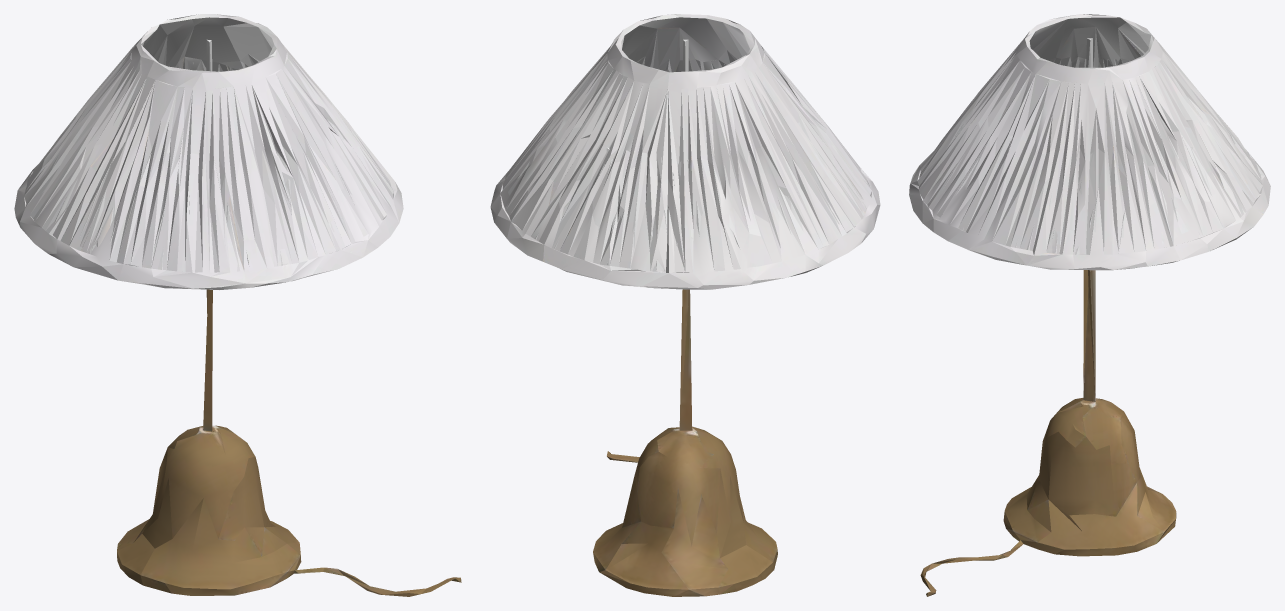
File: table_lamp.glb
3 renders of one model, left to right at view 1: azimuth 30°, elevation 25°; view 2: azimuth 150°, elevation 25°; view 3: azimuth 270°, elevation 25°, orthographic. The views are drawn at different scales.
Parts seen in each view (by area): view 1: 0; view 2: 0; view 3: 0.
Boxes of the visible parts, box(x1,y1,x2,y2) form: 0: box(14, 14, 461, 596); 0: box(490, 14, 880, 596); 0: box(909, 14, 1270, 596).
Bounding box in the file's own units: 0.3736 × 0.55 × 0.3732.
1 material, 1 textured.
